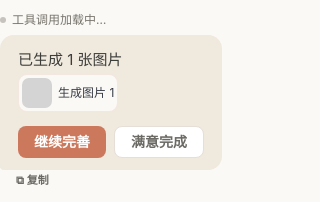
Test case: 结果图与确认动作在消息里共存 › 结果图和「继续完善/满意完成」同时渲染，点满意完成后结果图仍在
Expected: the element with class "chat-message-attachments" is shown, [18,72,204,118]
What coordinates should you click on to do the following:
click the button "满意完成"
I would click on:
 (159, 142)
Its box is [114,126,204,158].
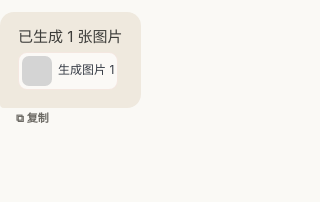
Expected: the element with class "chat-message-attachments" is shown, [18,50,122,96]
Expected: the button "满意完成" is gone
